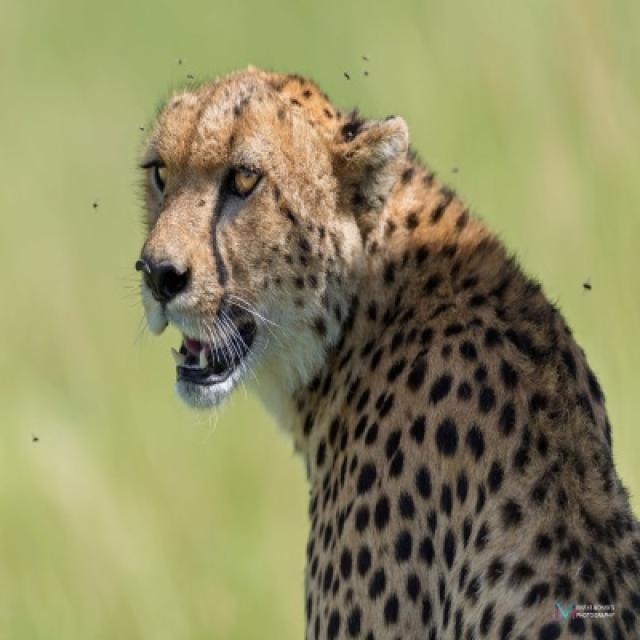Cheetah: (133, 66, 638, 638)
